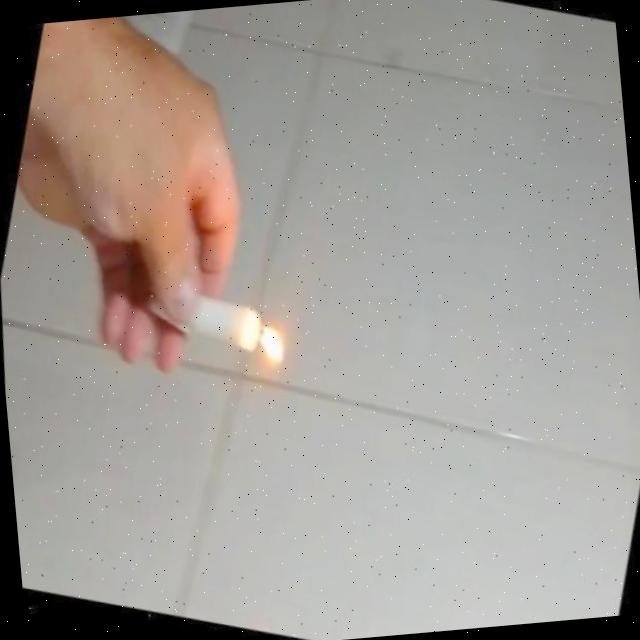fire: (246, 320, 294, 381)
